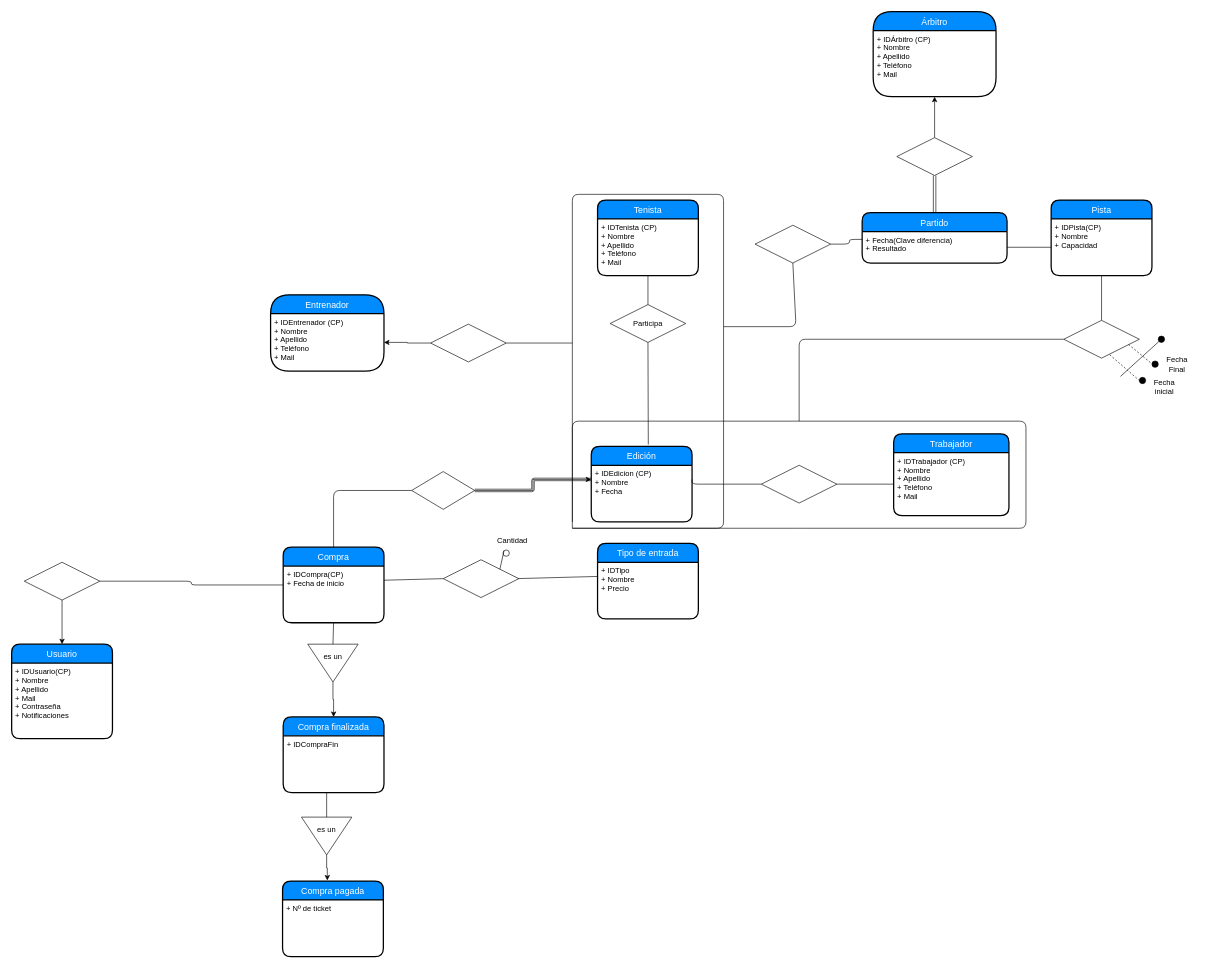
This 1206x968 diagram has some shape labels left out. The centre of each missing label's shape, as x and y in pixels:
"Arbitra" belongs at [934,156].
"Asignado" belongs at [1101,339].
"Añade" belongs at [481,578].
"Compite" belongs at [792,244].
"En" belongs at [443,490].
"Entrena" belongs at [468,343].
"Realiza" belongs at [62,581].
"Trabaja" belongs at [799,484].
